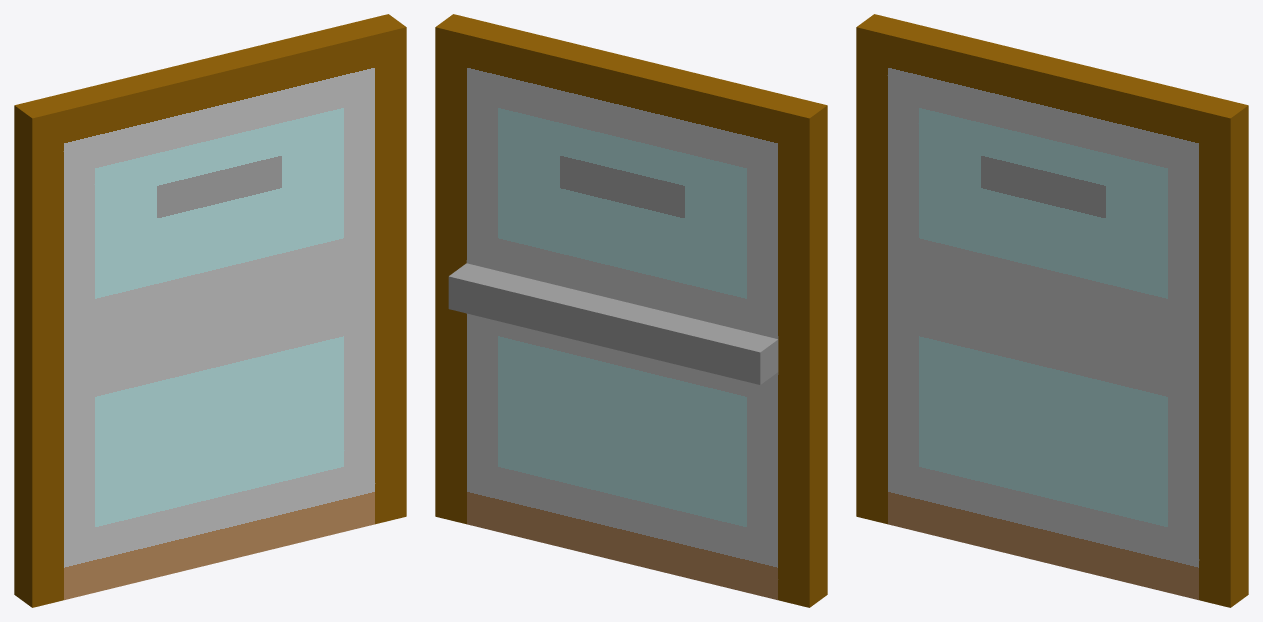
The model's file is obj_door1.fbx.
3 renders of one model, left to right at view 1: azimuth 30°, elevation 25°; view 2: azimuth 150°, elevation 25°; view 3: azimuth 330°, elevation 25°, orthographic.
Visible parts, largest first — view 1: obj_door1; view 2: obj_door1; view 3: obj_door1.
Boxes of the visible parts, box(x1,y1,x2,y2) form: obj_door1: box(14, 14, 406, 607); obj_door1: box(435, 14, 827, 607); obj_door1: box(856, 14, 1248, 607).
Bounding box in the file's own units: 1.2 × 0.2 × 1.5.
Materials: 1 (1 with a texture image).
